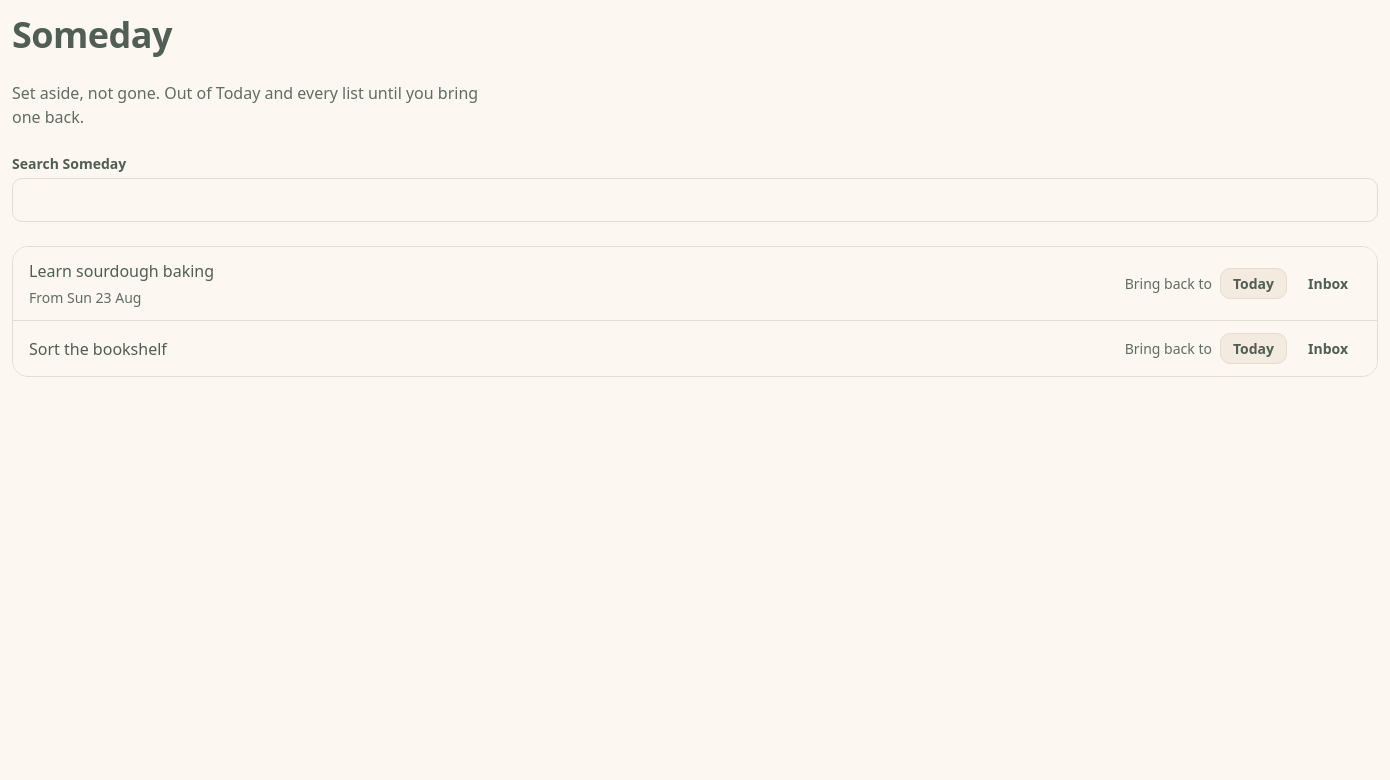
SomedayRoute › brings one back to the inbox, leaving its dates alone
Click the button with aria-label "Bring back to the inbox" at x=1328, y=284, box [1295,268,1361,299]
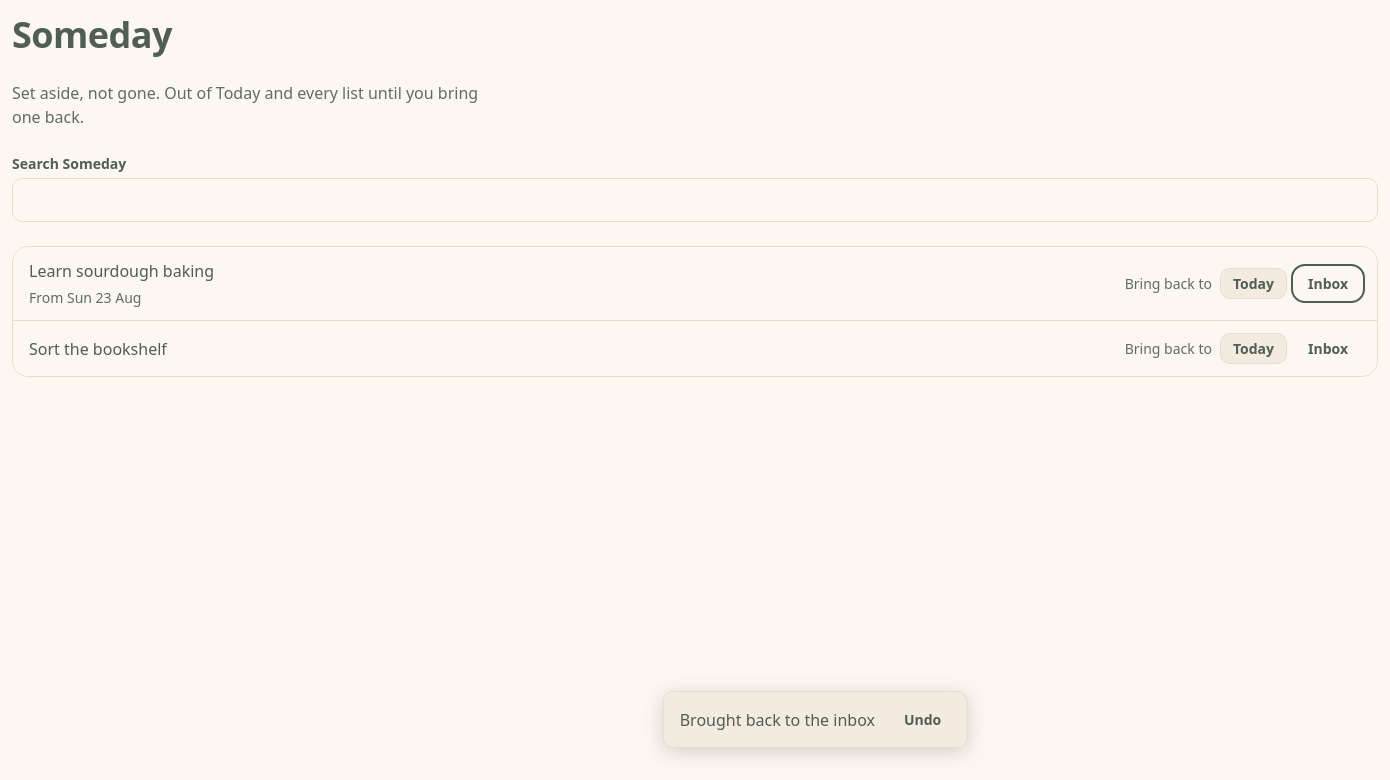
Now the text "Brought back to the inbox" is shown, box [680,708,875,732]
